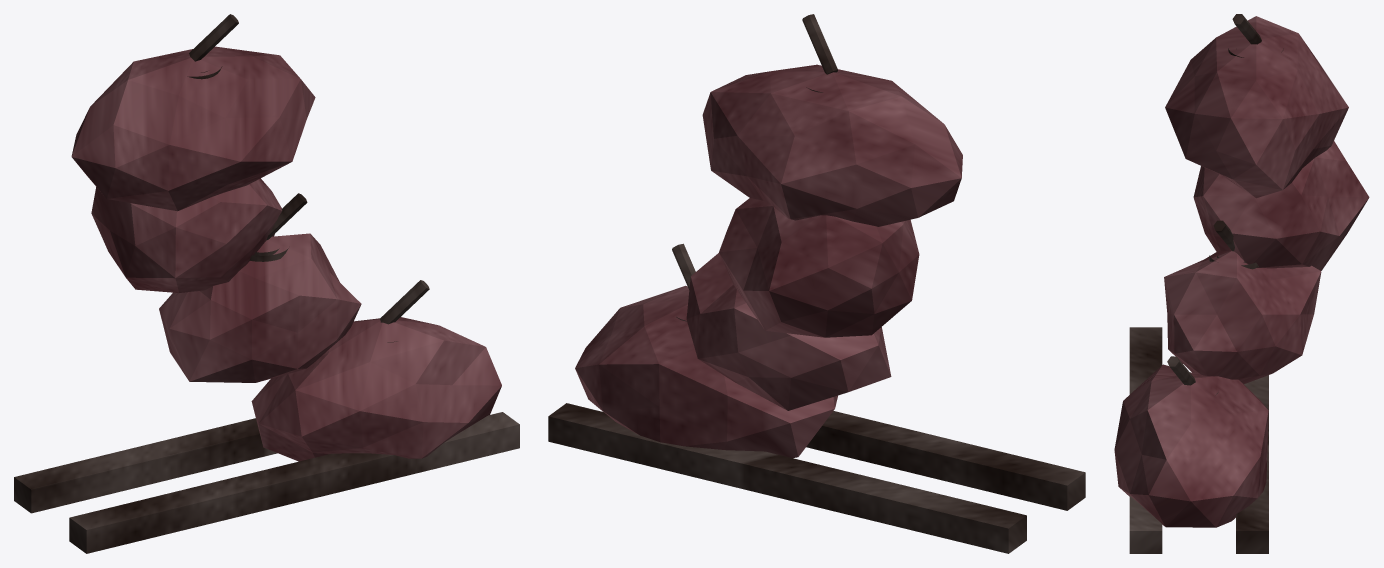
The model's file is 0801_sack_stack_01.glb.
The picture shows the model from 3 angles, left to right: view 1: azimuth 30°, elevation 25°; view 2: azimuth 150°, elevation 25°; view 3: azimuth 270°, elevation 25°; orthographic projection. The views are drawn at different scales.
Parts seen in each view (by area): view 1: cloth, wood_dark; view 2: cloth, wood_dark; view 3: cloth, wood_dark.
Boxes of the visible parts, x1,y1,x2,y2 form: cloth: (71, 46, 501, 461); wood_dark: (14, 14, 519, 553); cloth: (575, 64, 962, 457); wood_dark: (548, 14, 1085, 553); cloth: (1114, 16, 1369, 527); wood_dark: (1129, 14, 1283, 553).
Bounding box in the file's own units: 1.92 × 1.94 × 1.01.
Materials: 2 (2 with a texture image).
